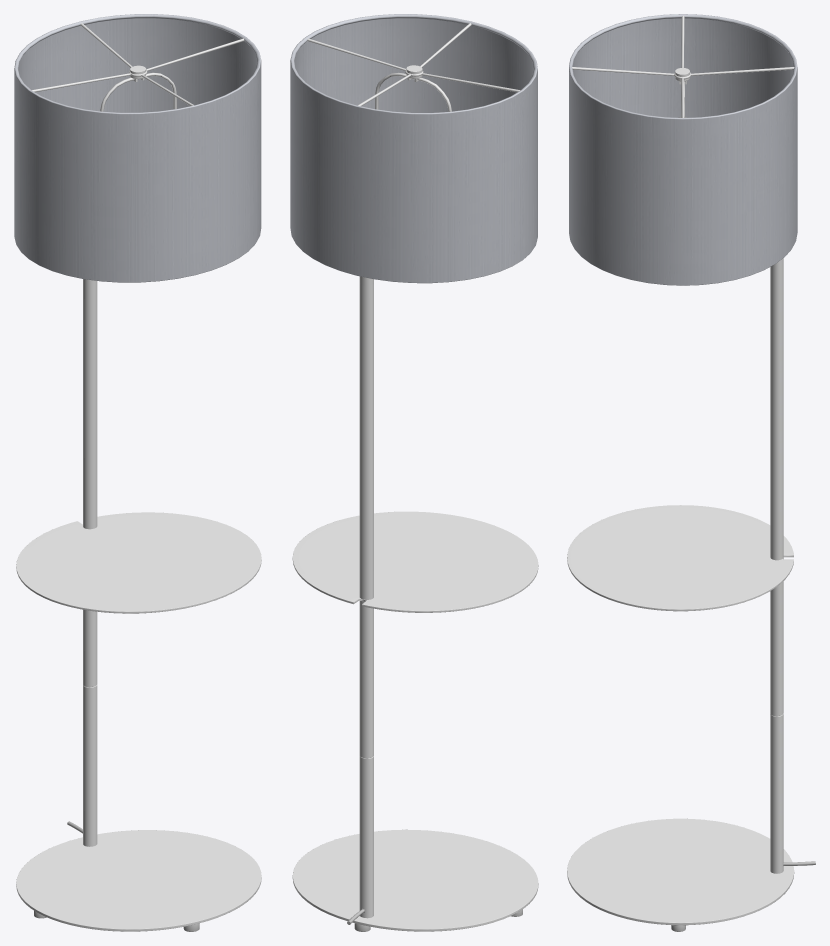
Rendered from abo-B07HK85S6P.glb.
3 renders of one model, left to right at view 1: azimuth 30°, elevation 25°; view 2: azimuth 150°, elevation 25°; view 3: azimuth 270°, elevation 25°, orthographic.
Bounding box in the file's own units: 0.405 × 1.47 × 0.405.
1 material, 1 textured.
